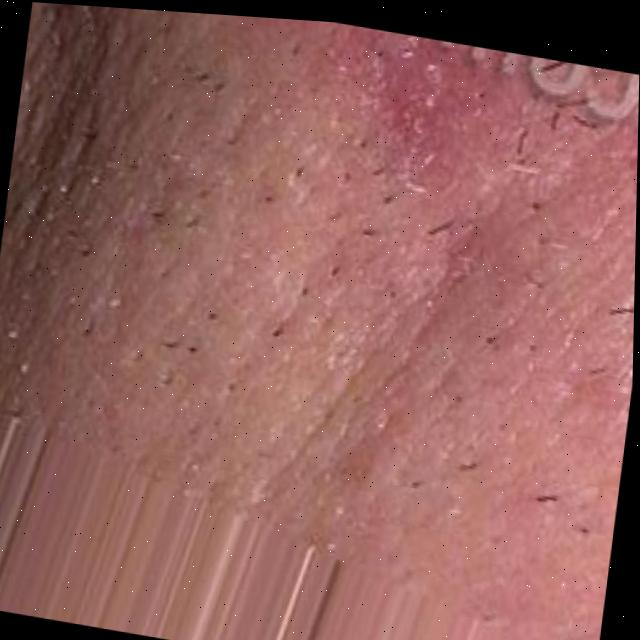Rosacea: (161, 11, 640, 516)
